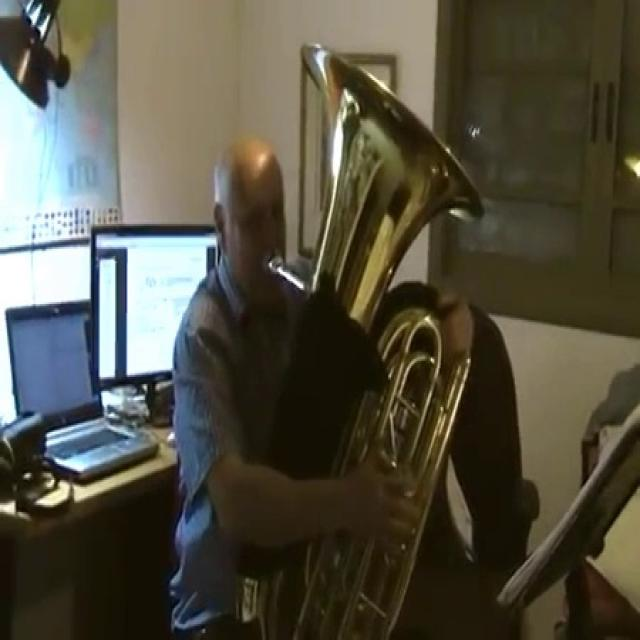Tuba: (205, 30, 499, 639)
